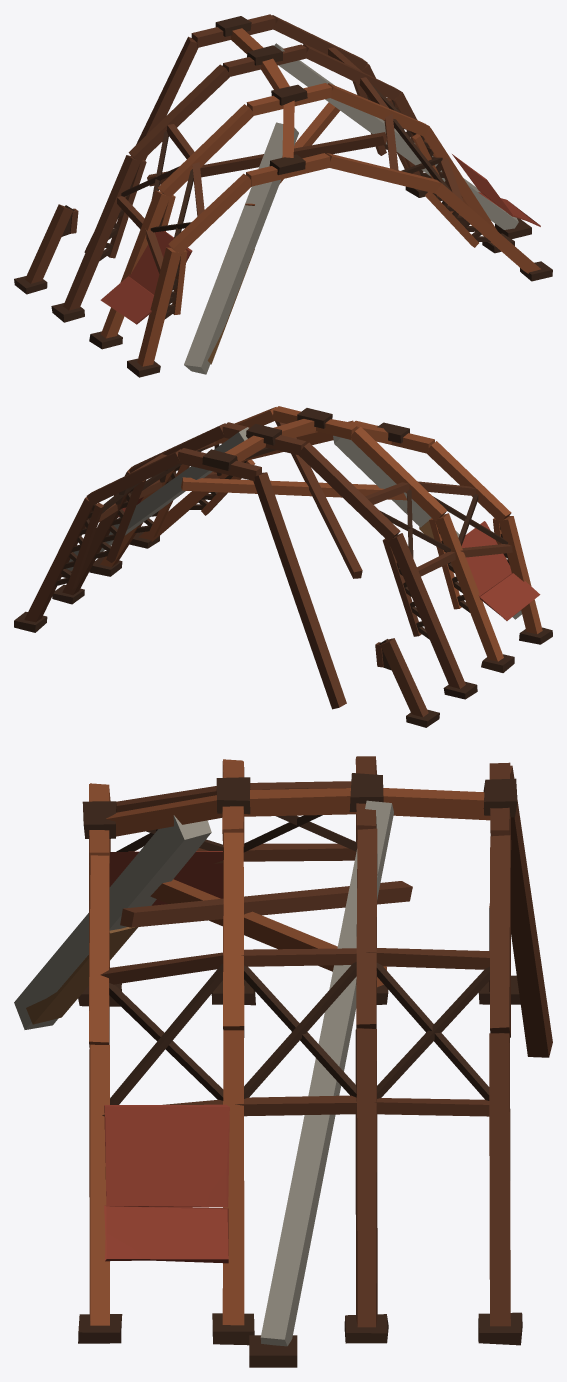
The model's file is engine_frame.glb.
3 views of the same model, one above another, from view 1: azimuth 30°, elevation 25°; view 2: azimuth 150°, elevation 25°; view 3: azimuth 270°, elevation 25° (orthographic). The views are drawn at different scales.
Visible parts, largest first — view 1: engine_frame; view 2: engine_frame; view 3: engine_frame.
Boxes of the visible parts, box(x1,y1,x2,y2) form: engine_frame: box(14, 14, 552, 377); engine_frame: box(14, 406, 552, 727); engine_frame: box(14, 756, 552, 1367).
Bounding box in the file's own units: 33.75 × 15.97 × 20.19.
